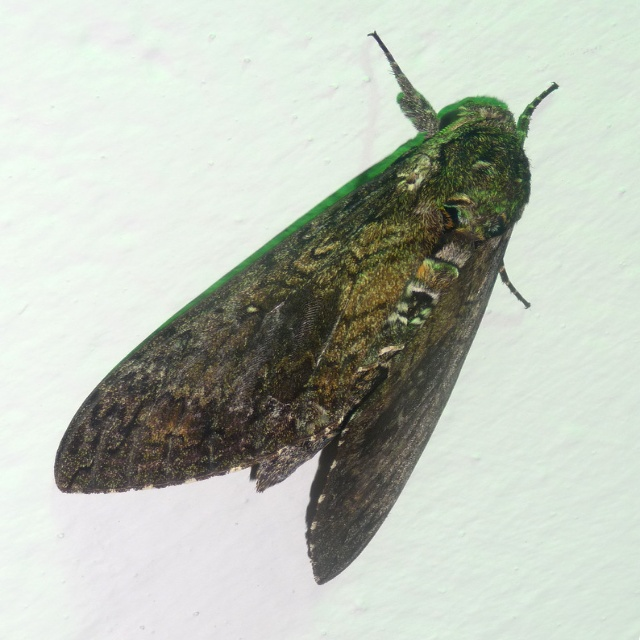Moths and butterflies: (52, 35, 557, 588)
